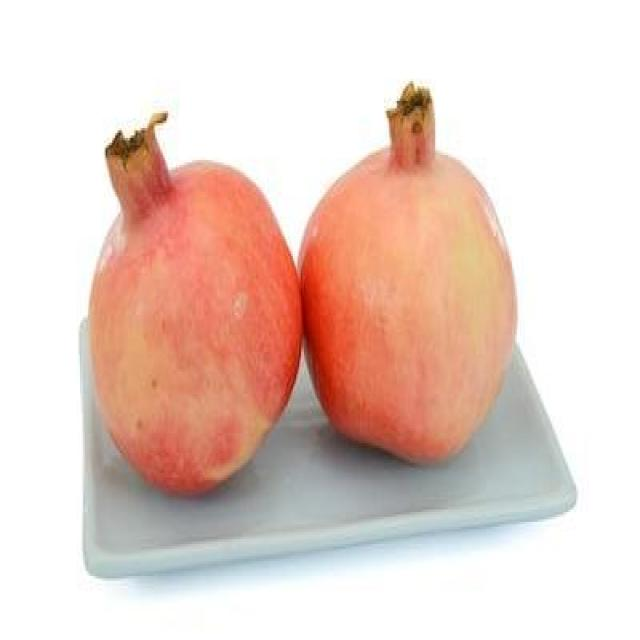Pomegranate: (302, 78, 520, 470), (87, 110, 303, 498)
